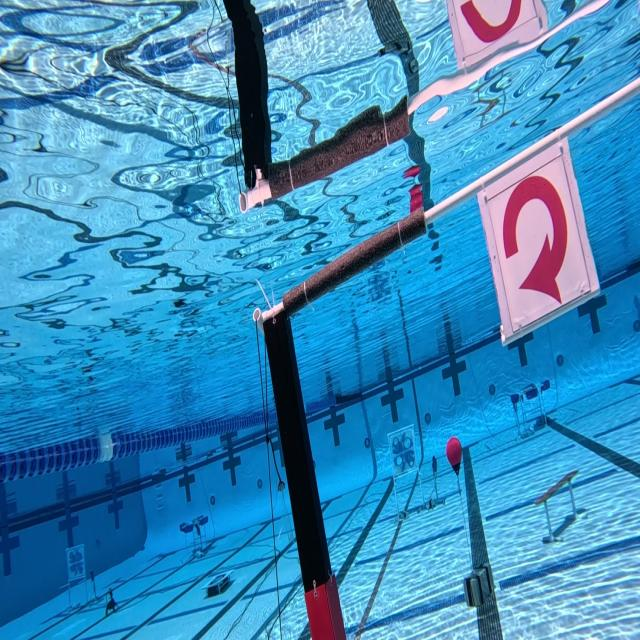red_side: (471, 129, 607, 337)
